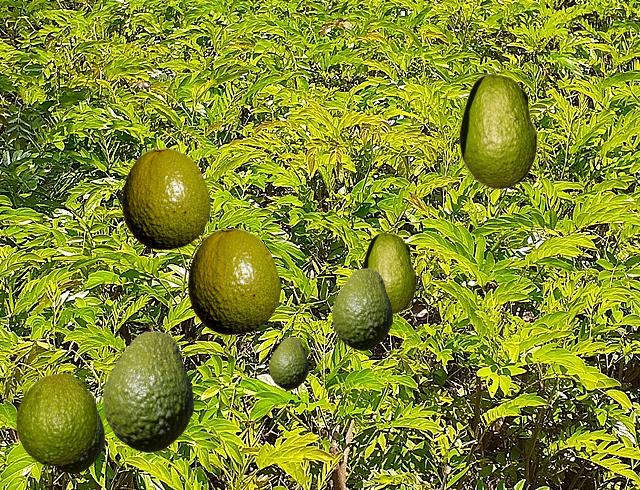avocado: (103, 331, 192, 451), (188, 228, 279, 333), (459, 73, 536, 188), (122, 148, 209, 248), (16, 373, 96, 464), (332, 268, 391, 349), (362, 232, 415, 313), (52, 388, 103, 472), (269, 337, 307, 388)
